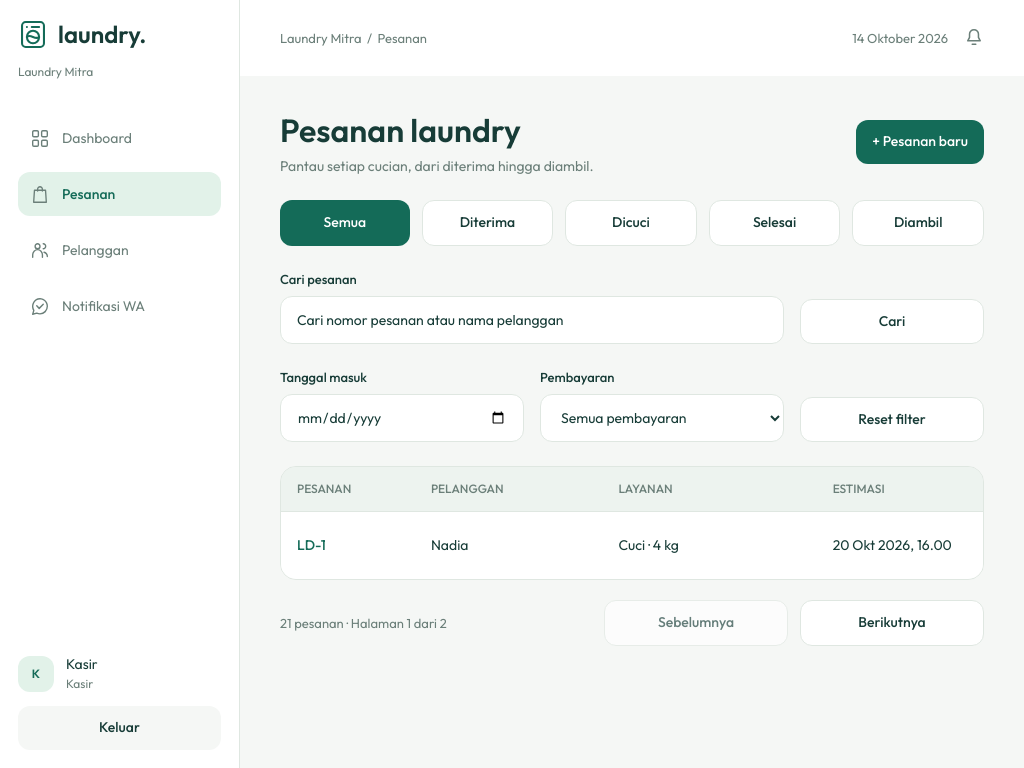
combines date/payment/status filters and resets pagination
Check: the table is shown, box [281, 467, 984, 580]
Type "Nadia" into the field labelled "Cari pesanan" at (532, 320), box [280, 296, 784, 344]
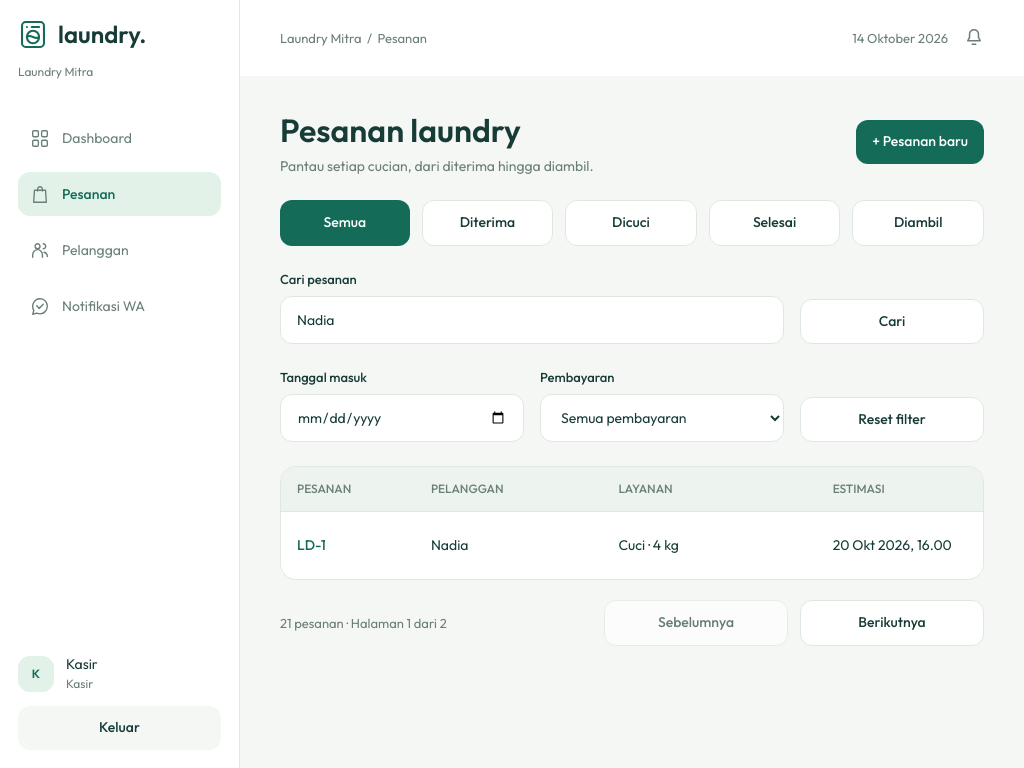
Click the button "Cari" at (892, 321), box [800, 299, 984, 344]
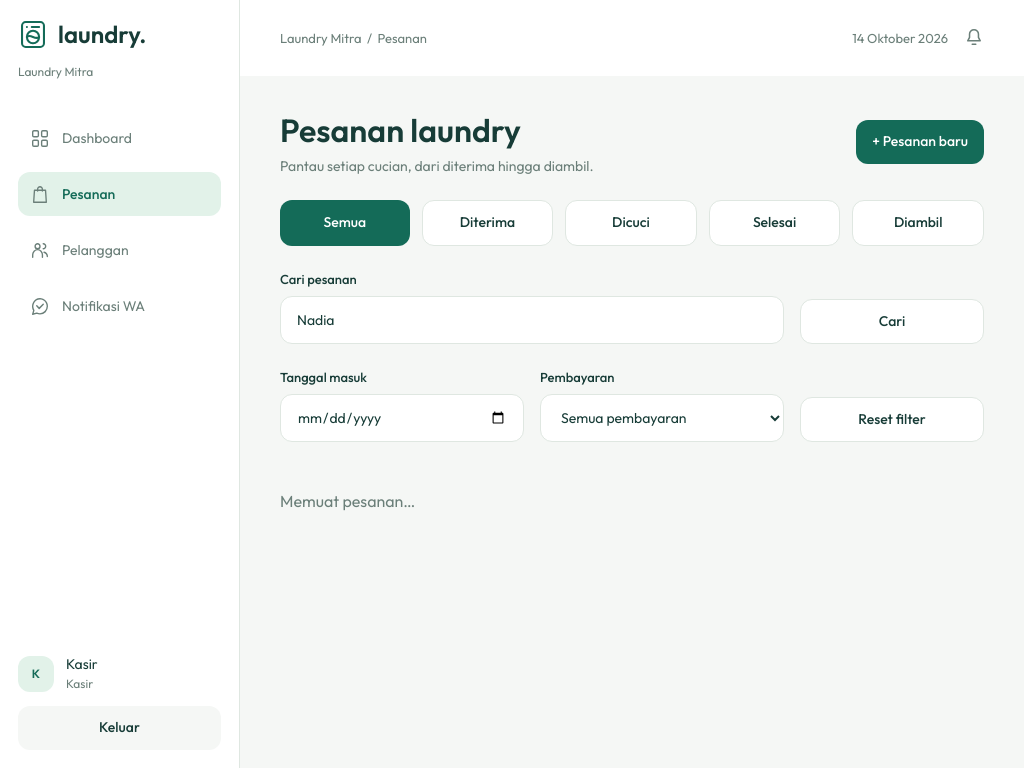
Type "2026-10-14" into the date field labelled "Tanggal masuk" at (402, 418), box [280, 394, 524, 442]
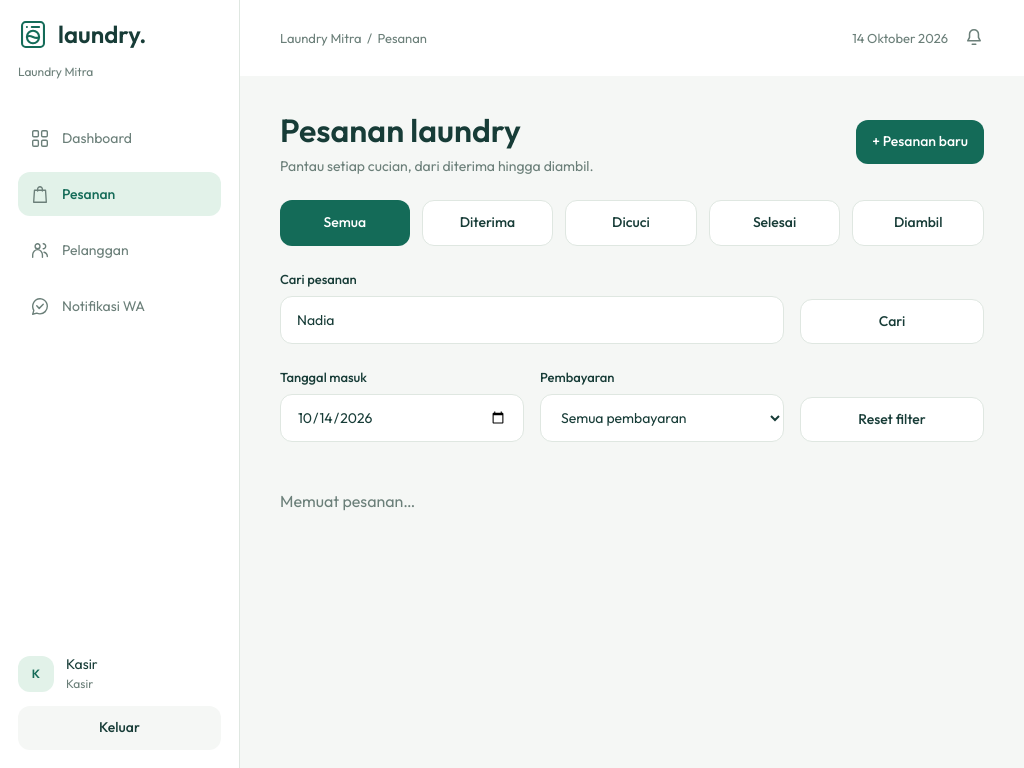
Select "Lunas" in the dropdown labelled "Pembayaran" at (662, 418), box [540, 394, 784, 442]
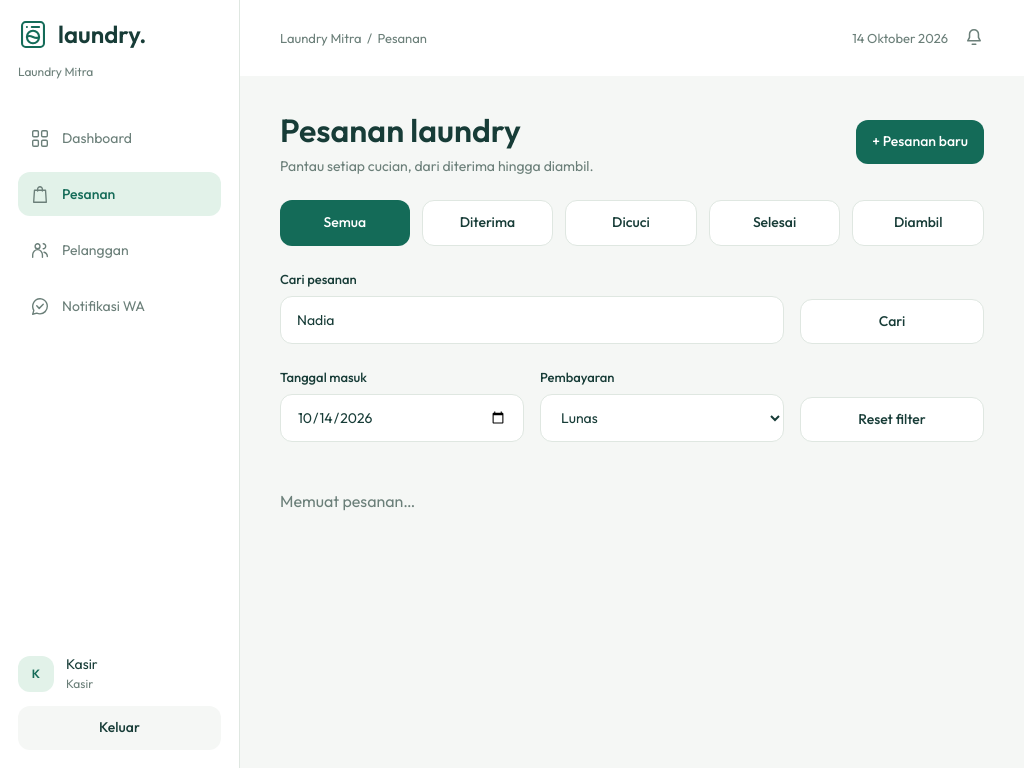
Click the button "Selesai" at (775, 223), box [709, 200, 840, 246]
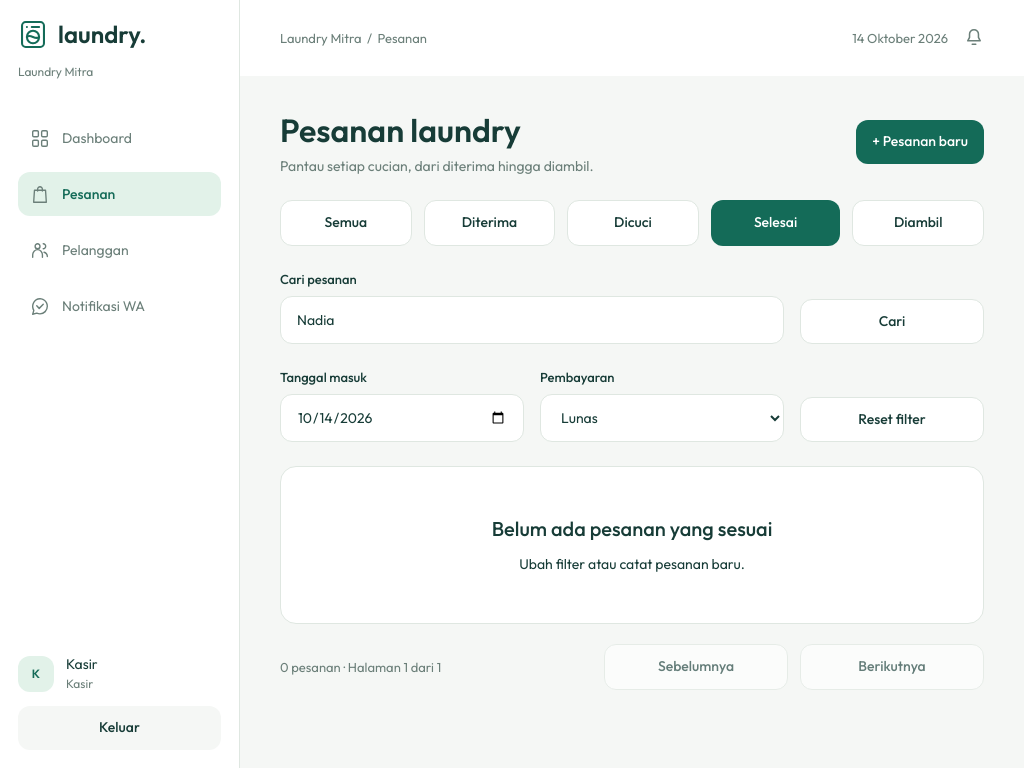
Check: the heading "Belum ada pesanan yang sesuai" is shown, box [492, 515, 772, 543]
